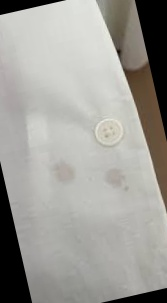wine: (104, 169, 138, 198), (50, 154, 81, 183)
